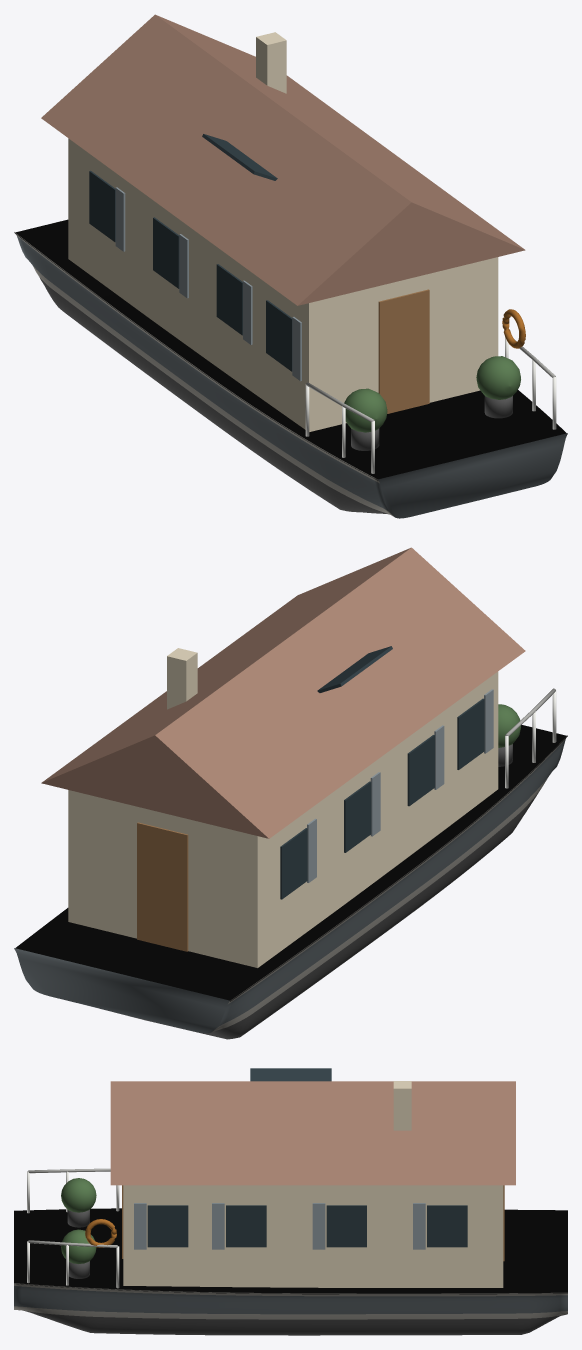
File: houseboat.glb
3 views of the same model, one above another, from view 1: azimuth 30°, elevation 25°; view 2: azimuth 150°, elevation 25°; view 3: azimuth 270°, elevation 25° (orthographic). The views are drawn at different scales.
Visible parts, largest first — view 1: Roof, House, Hull, WaterMask, FrontDoor, Chimney, Plant.001, Window.004, Window.005, Window.007, Window.006, Plant (+2 smaller); view 2: Roof, House, Hull, WaterMask, BackDoor, Chimney, Window.004, Window.005, Window.006, Window.007, Solar, Plant (+2 smaller); view 3: Roof, House, Hull, WaterMask, Window.003, Window, Window.002, Window.001, Solar, Plant, Chimney, Plant.001 (+6 smaller).
Part boxes in pixels (left/top/right/bottom): Roof: left=41, top=14, right=525, bottom=305; House: left=68, top=138, right=498, bottom=431; Hull: left=14, top=232, right=567, bottom=518; WaterMask: left=14, top=219, right=566, bottom=480; FrontDoor: left=378, top=289, right=429, bottom=413; Chimney: left=256, top=32, right=286, bottom=93; Plant.001: left=476, top=356, right=520, bottom=399; Window.004: left=89, top=170, right=115, bottom=242; Window.005: left=153, top=217, right=179, bottom=288; Window.007: left=266, top=300, right=292, bottom=371; Window.006: left=216, top=264, right=242, bottom=335; Plant: left=344, top=388, right=387, bottom=432; Roof: left=41, top=547, right=525, bottom=838; House: left=68, top=671, right=498, bottom=967; Hull: left=14, top=735, right=567, bottom=1039; WaterMask: left=15, top=725, right=567, bottom=1001; BackDoor: left=137, top=822, right=188, bottom=951; Chimney: left=167, top=648, right=197, bottom=709; Window.004: left=280, top=828, right=307, bottom=899; Window.005: left=344, top=781, right=371, bottom=852; Window.006: left=407, top=735, right=434, bottom=806; Window.007: left=457, top=698, right=484, bottom=769; Solar: left=317, top=646, right=392, bottom=692; Plant: left=498, top=704, right=520, bottom=747; Roof: left=110, top=1081, right=515, bottom=1185; House: left=123, top=1185, right=503, bottom=1287; Hull: left=14, top=1283, right=567, bottom=1335; WaterMask: left=14, top=1208, right=567, bottom=1294; Window.003: left=147, top=1205, right=188, bottom=1247; Window: left=427, top=1205, right=467, bottom=1247; Window.002: left=226, top=1205, right=266, bottom=1247; Window.001: left=326, top=1205, right=366, bottom=1247; Solar: left=250, top=1068, right=331, bottom=1081; Plant: left=61, top=1178, right=96, bottom=1212; Chimney: left=393, top=1081, right=411, bottom=1130; Plant.001: left=61, top=1229, right=96, bottom=1263.
Size of the model in its own units: 4.1 by 5.14 by 10.91.
